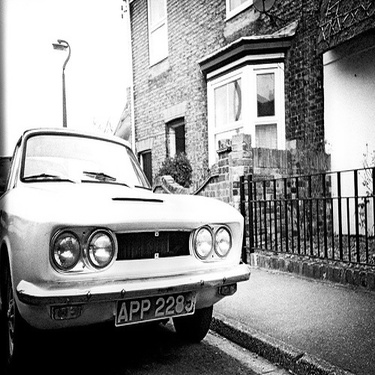car: (1, 113, 260, 337)
